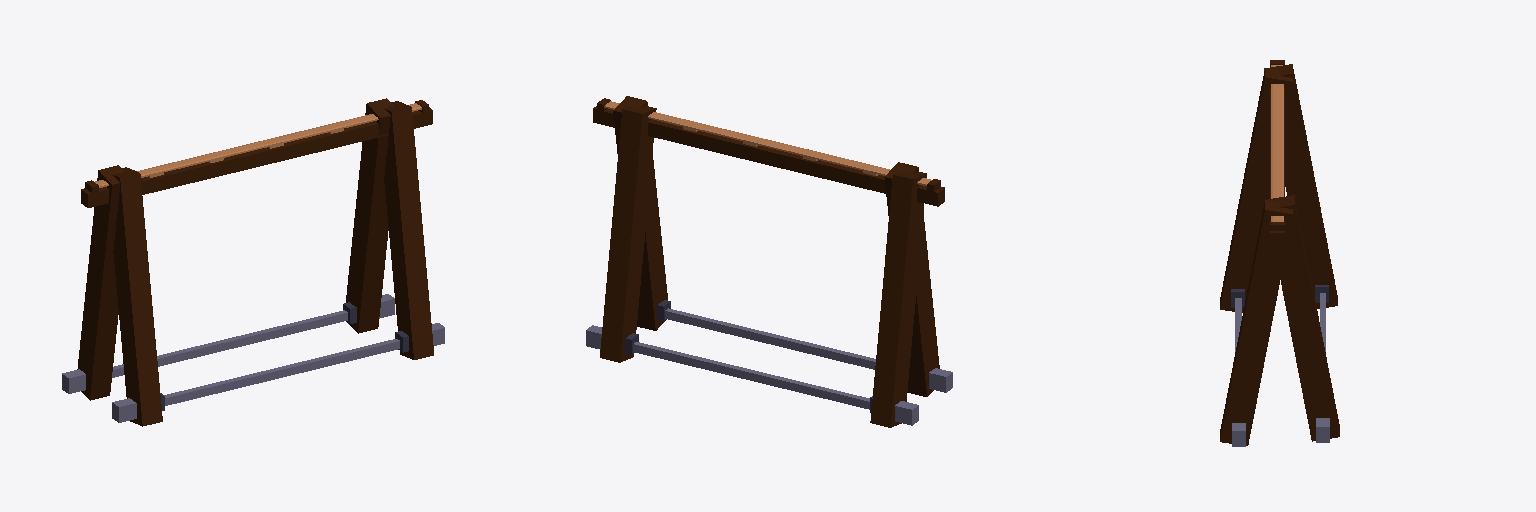
The model's file is WeaponRack.obj.
3 renders of one model, left to right at view 1: azimuth 30°, elevation 25°; view 2: azimuth 150°, elevation 25°; view 3: azimuth 270°, elevation 25°, orthographic.
Parts seen in each view (by area): view 1: porch_floorCenter, column_classic, column_pole, detail_ladder; view 2: porch_floorCenter, column_classic, column_pole, detail_ladder; view 3: porch_floorCenter, detail_ladder, column_classic, column_pole.
Part boxes in pixels (bbox=[...]): porch_floorCenter: bbox=[77, 98, 433, 426]; column_classic: bbox=[62, 294, 444, 422]; column_pole: bbox=[81, 100, 432, 410]; detail_ladder: bbox=[95, 103, 421, 187]; porch_floorCenter: bbox=[600, 96, 939, 427]; column_classic: bbox=[586, 308, 952, 425]; column_pole: bbox=[593, 98, 944, 412]; detail_ladder: bbox=[604, 101, 931, 185]; porch_floorCenter: bbox=[1220, 64, 1339, 445]; detail_ladder: bbox=[1271, 65, 1283, 221]; column_classic: bbox=[1232, 293, 1329, 446]; column_pole: bbox=[1231, 60, 1328, 307].
Size of the model in its own units: 1.71 by 1.12 by 0.5137.